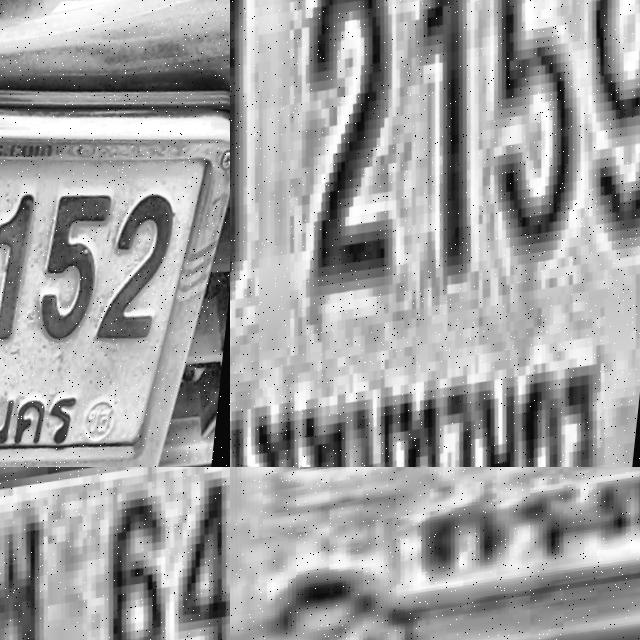license-plate: (230, 0, 640, 467), (0, 0, 230, 467), (230, 467, 640, 640), (0, 467, 230, 640)
